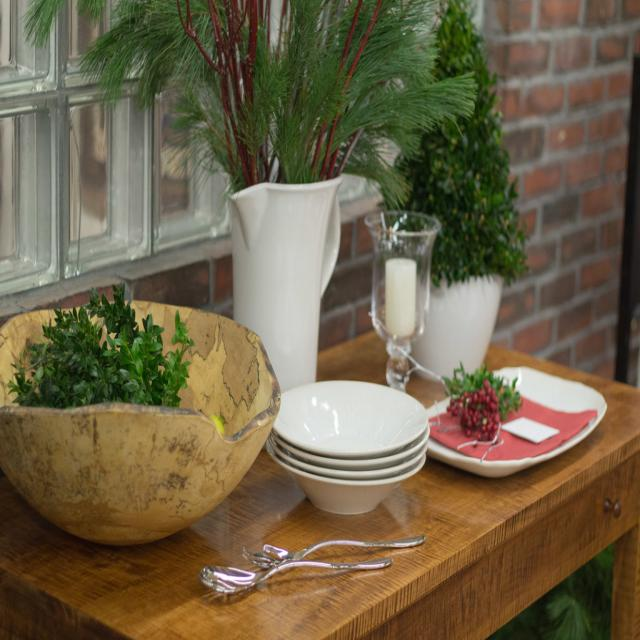non-organic waste: (271, 351, 431, 516)
